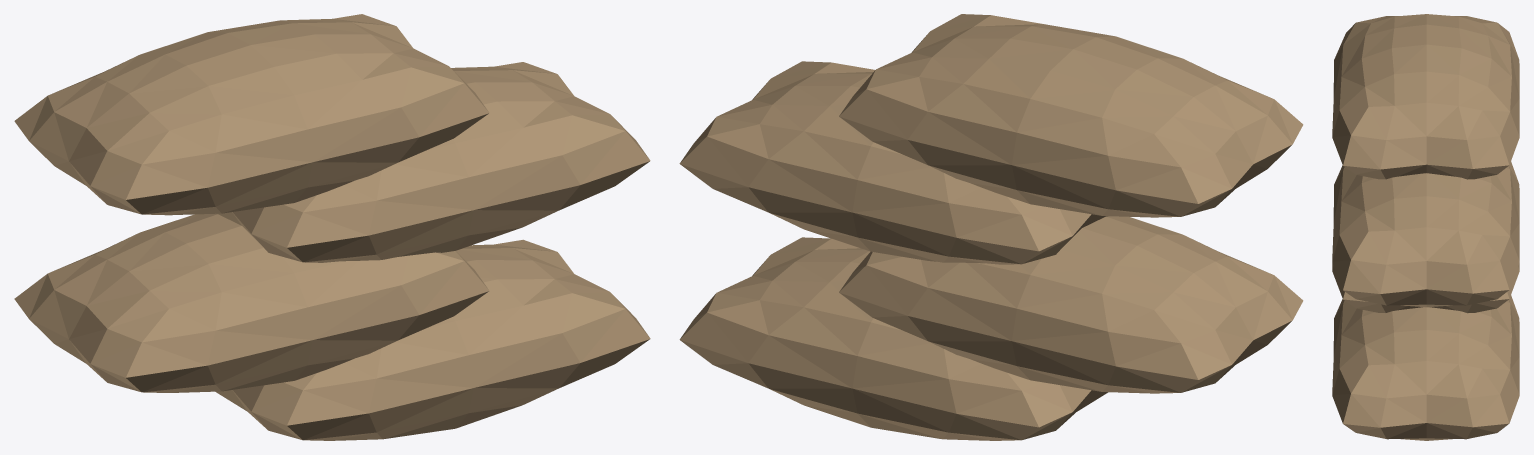
Rendered from sacos.dae.
3 renders of one model, left to right at view 1: azimuth 30°, elevation 25°; view 2: azimuth 150°, elevation 25°; view 3: azimuth 270°, elevation 25°, orthographic. The views are drawn at different scales.
Visible parts, largest first — view 1: Cube_001, Cube_007, Cube_008, Cube_000; view 2: Cube_001, Cube_007, Cube_008, Cube_000; view 3: Cube_001, Cube_000, Cube_008, Cube_007.
Boxes of the visible parts, <box> form: Cube_001: <box>14,14,489,215</box>; Cube_007: <box>14,213,489,392</box>; Cube_008: <box>215,239,650,440</box>; Cube_000: <box>216,62,650,262</box>; Cube_001: <box>839,14,1303,217</box>; Cube_007: <box>839,216,1303,393</box>; Cube_008: <box>679,237,1107,440</box>; Cube_000: <box>679,61,1107,264</box>; Cube_001: <box>1332,14,1519,179</box>; Cube_000: <box>1332,161,1519,307</box>; Cube_008: <box>1332,295,1519,440</box>; Cube_007: <box>1332,263,1519,313</box>.
Bounding box in the file's own units: 21.65 × 8.58 × 15.1.
